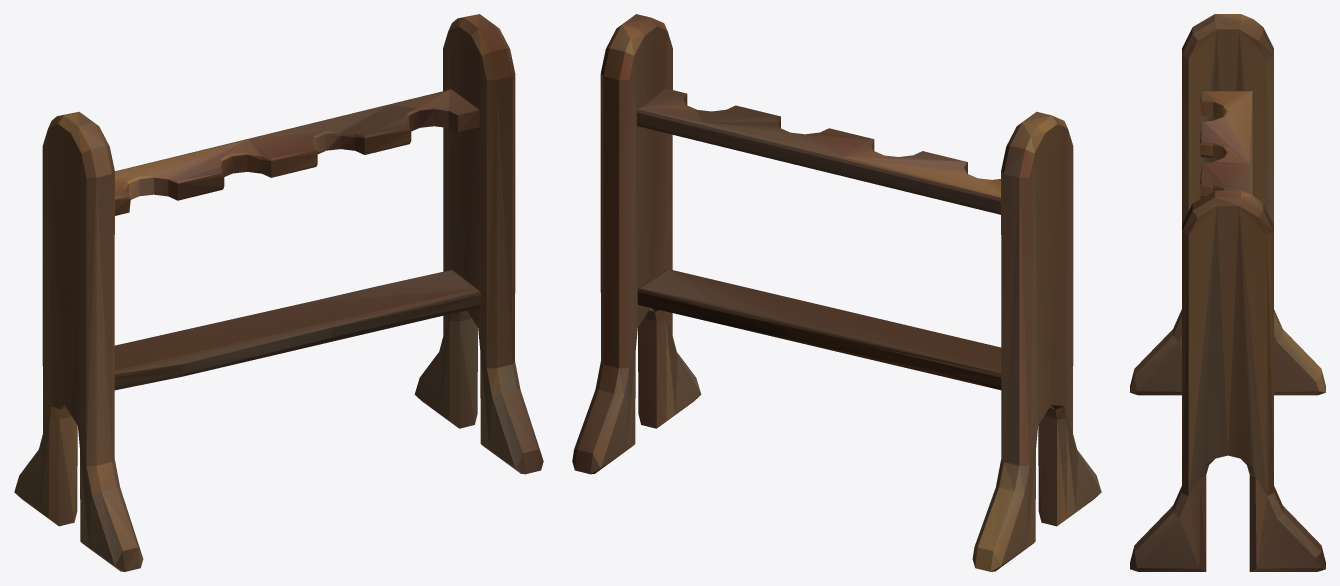
File: Prop_WeaponStand.fbx
The picture shows the model from 3 angles, left to right: view 1: azimuth 30°, elevation 25°; view 2: azimuth 150°, elevation 25°; view 3: azimuth 270°, elevation 25°; orthographic projection. The views are drawn at different scales.
Parts seen in each view (by area): view 1: Prop_WeaponStand; view 2: Prop_WeaponStand; view 3: Prop_WeaponStand.
Part boxes in pixels (left/top/right/bottom): Prop_WeaponStand: left=14, top=14, right=543, bottom=571; Prop_WeaponStand: left=572, top=14, right=1101, bottom=571; Prop_WeaponStand: left=1130, top=14, right=1325, bottom=571.
Size of the model in its own units: 151 by 139 by 65.98.
